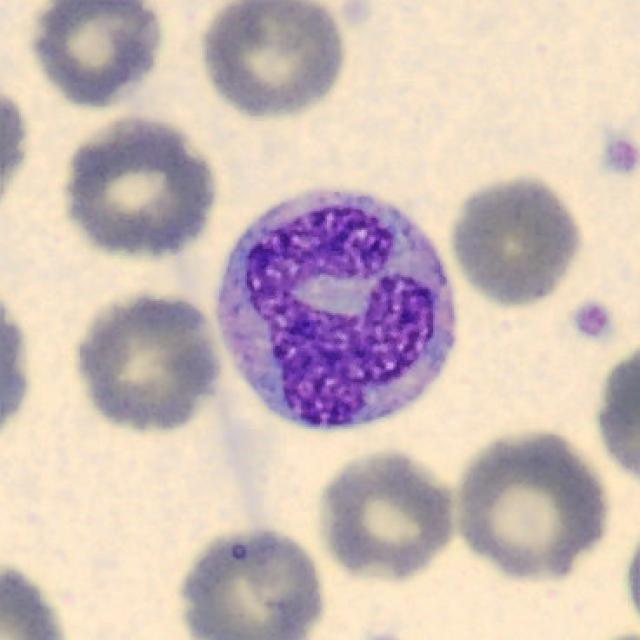Monocito: (214, 190, 457, 431)
